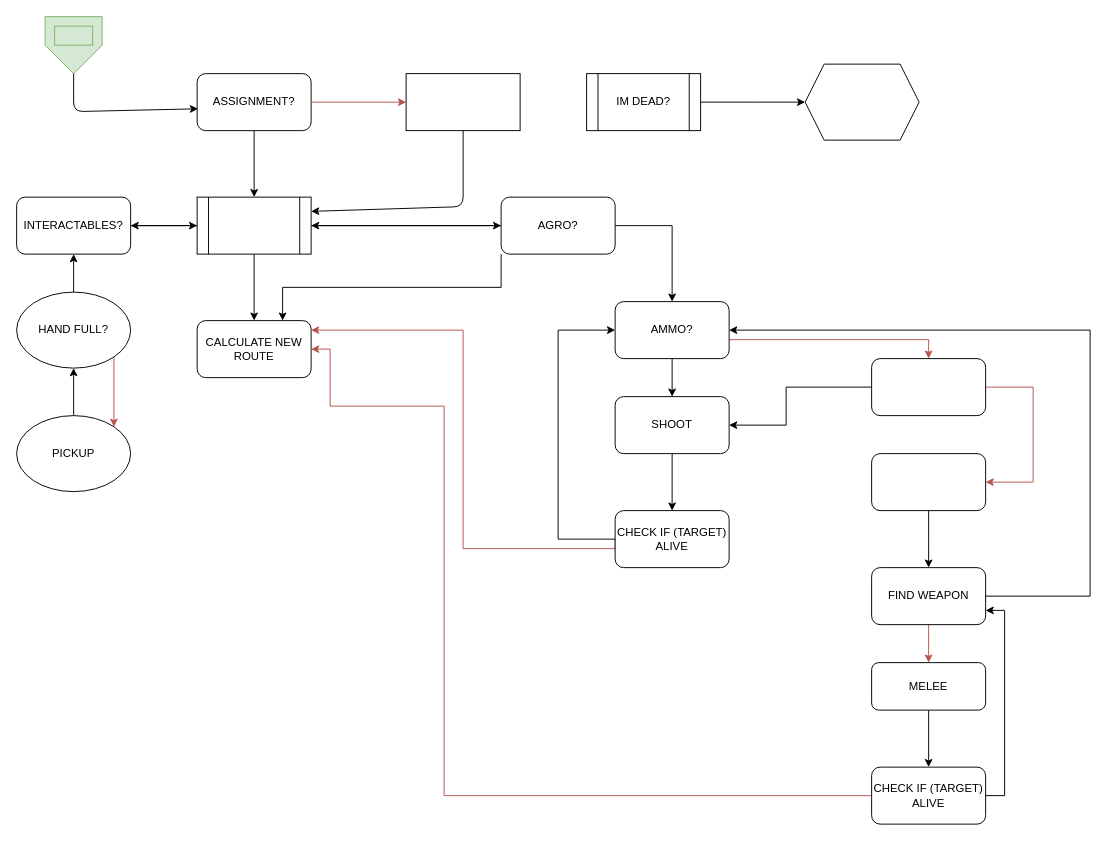
This 1114x841 diagram has some shape labels left out. The centre of each missing label's shape, as x and y in pixels:
CHOOSE OTHER ASSIGNMENT: point (462, 102)
GO TO ASSIGNMENT: point (253, 225)
RELOAD?: point (928, 387)
RETURN: NEVER ARRIVED: point (861, 101)
Start: point (73, 35)
Throw Weapon: point (928, 482)
